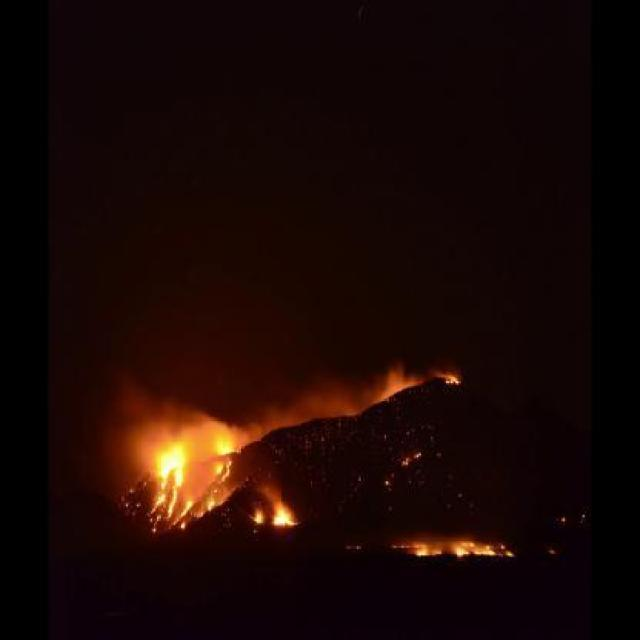Fire: (148, 446, 181, 516), (453, 540, 513, 557), (273, 504, 298, 528), (390, 538, 432, 548), (398, 450, 422, 467), (216, 461, 232, 481), (180, 498, 193, 517), (414, 548, 440, 556), (216, 446, 241, 454), (444, 372, 458, 386), (255, 512, 262, 526), (207, 500, 215, 511), (178, 522, 186, 530)
